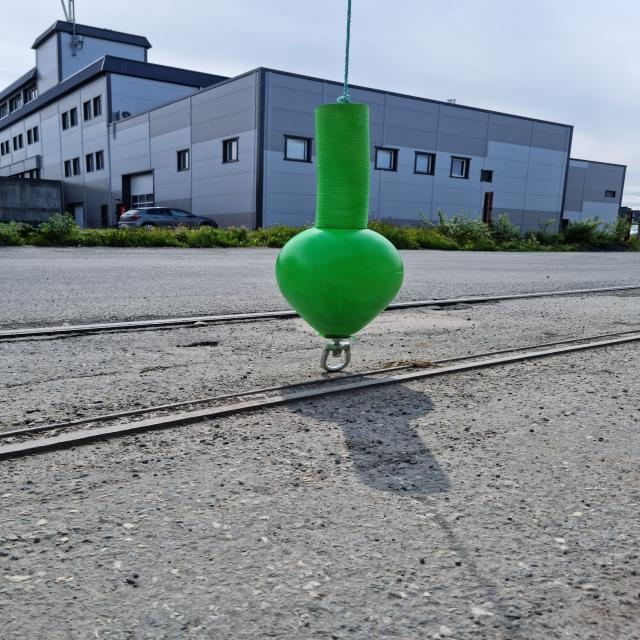green: (277, 104, 404, 339)
